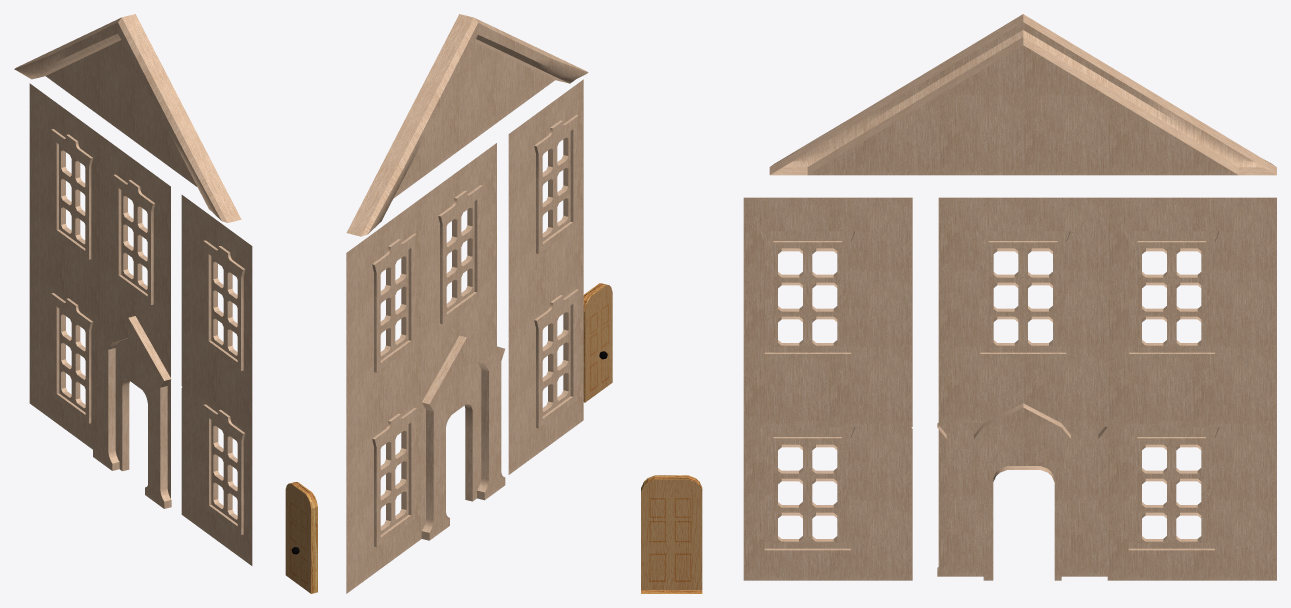
File: House_model.FBX
3 renders of one model, left to right at view 1: azimuth 30°, elevation 25°; view 2: azimuth 150°, elevation 25°; view 3: azimuth 270°, elevation 25°, orthographic. The views are drawn at different scales.
Parts seen in each view (by area): view 1: front1, door; view 2: front1, door; view 3: front1, door.
Part boxes in pixels (left/top/right/bottom): front1: left=14, top=14, right=252, bottom=565; door: left=285, top=482, right=317, bottom=593; front1: left=346, top=14, right=588, bottom=593; door: left=583, top=283, right=612, bottom=402; front1: left=743, top=14, right=1276, bottom=580; door: left=641, top=475, right=702, bottom=593.
Size of the model in its own units: 6.59 by 72.91 by 75.18.
